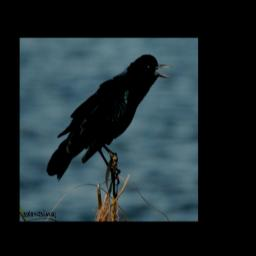Crow: (47, 54, 171, 186)
